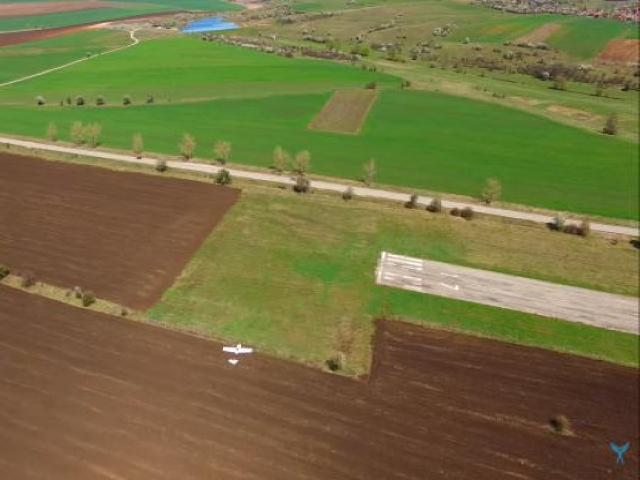uav: (218, 337, 258, 370)
